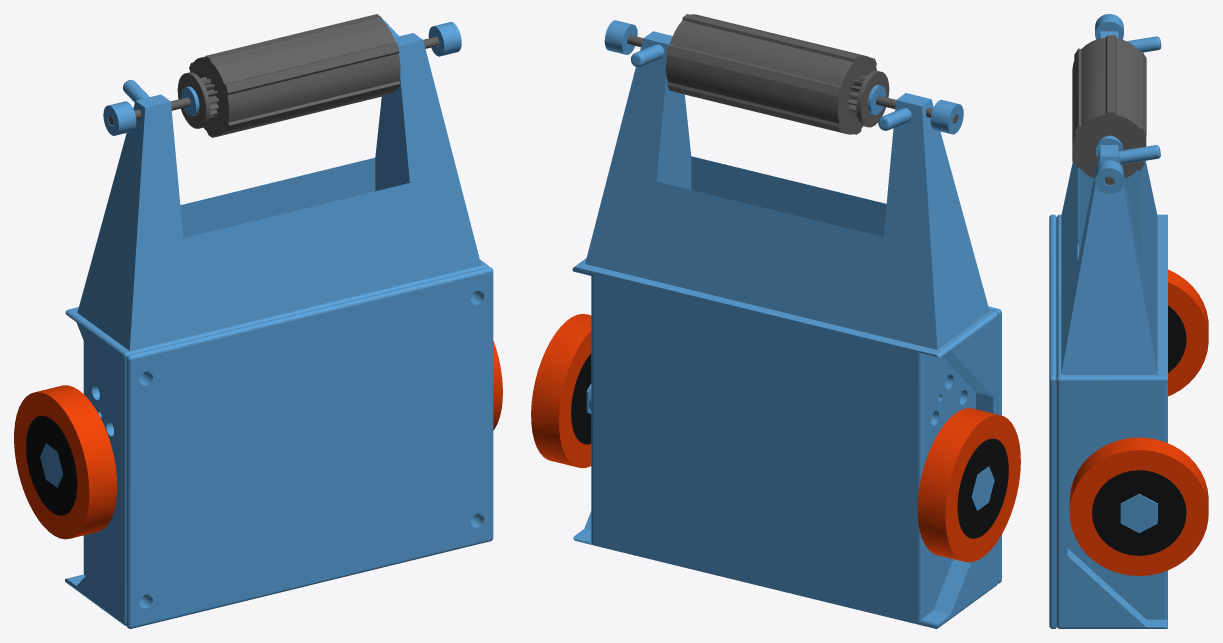
File: FinalAssembly.fbx
3 views of the same model, side by side, from view 1: azimuth 30°, elevation 25°; view 2: azimuth 150°, elevation 25°; view 3: azimuth 270°, elevation 25° (orthographic). The views are drawn at different scales.
Parts seen in each view (by area): view 1: empty_33, empty_22, empty_34, empty_28, empty_8, empty_24, empty_43, empty_14, empty_12; view 2: empty_28, empty_22, empty_34, empty_8, empty_45, empty_24, empty_17, empty_43, empty_14, empty_12; view 3: empty_22, empty_28, empty_45, empty_34, empty_17, empty_33, empty_8, empty_9, empty_24, empty_14, empty_43, empty_42.
Boxes of the visible parts, x1,y1,x2,y2 form: empty_33: [126, 267, 493, 628]; empty_22: [77, 18, 481, 350]; empty_34: [177, 14, 400, 137]; empty_28: [65, 259, 488, 625]; empty_8: [14, 385, 117, 539]; empty_24: [26, 415, 77, 515]; empty_43: [103, 101, 136, 135]; empty_14: [428, 22, 461, 56]; empty_12: [40, 443, 63, 487]; empty_28: [572, 258, 997, 628]; empty_22: [585, 31, 989, 349]; empty_34: [666, 14, 889, 134]; empty_8: [917, 408, 1020, 562]; empty_45: [531, 314, 591, 467]; empty_24: [957, 438, 1008, 538]; empty_17: [571, 353, 591, 444]; empty_43: [930, 100, 963, 134]; empty_14: [604, 20, 637, 54]; empty_12: [971, 466, 994, 510]; empty_22: [1061, 31, 1161, 374]; empty_28: [1056, 214, 1167, 628]; empty_45: [1069, 437, 1208, 575]; empty_34: [1072, 35, 1146, 178]; empty_17: [1092, 470, 1186, 555]; empty_33: [1049, 214, 1056, 628]; empty_8: [1168, 269, 1208, 396]; empty_9: [1120, 493, 1157, 533]; empty_24: [1168, 305, 1186, 372]; empty_14: [1095, 160, 1123, 194]; empty_43: [1095, 14, 1123, 39]; empty_42: [1095, 135, 1123, 157].
Size of the model in its own units: 151 by 182 by 54.62.
